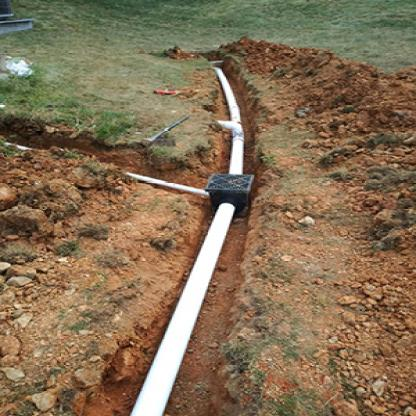PVC: (128, 203, 238, 415), (213, 66, 245, 175), (128, 174, 209, 197)
